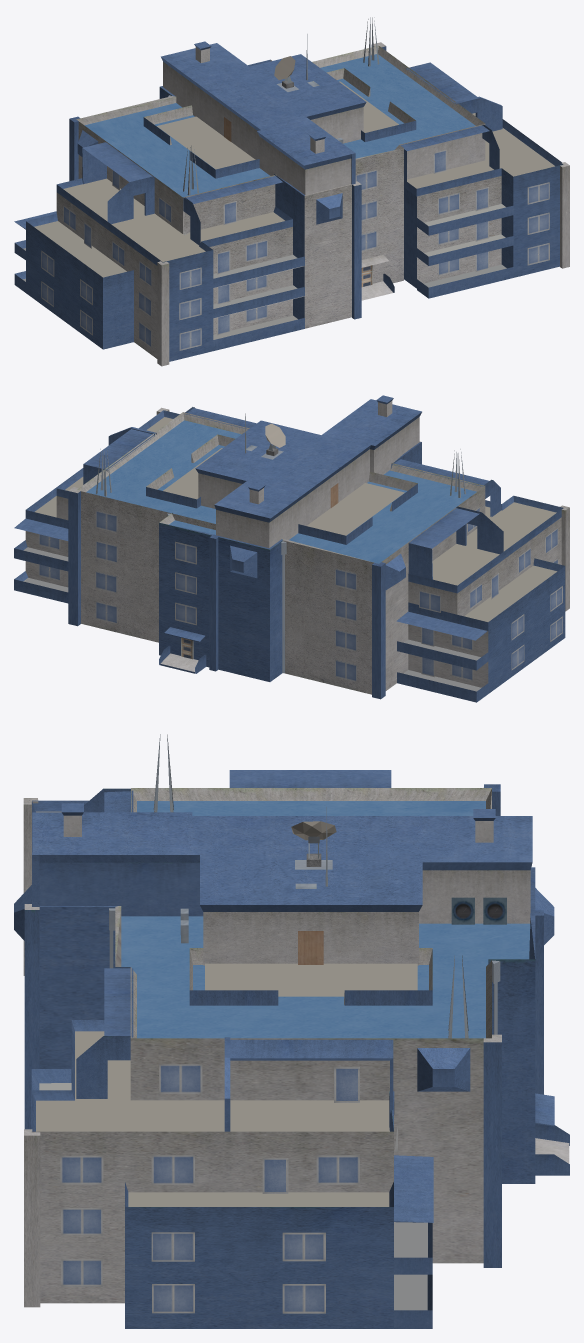
The model's file is ORB_3_S3_Detail_2.fbx.
3 views of the same model, one above another, from view 1: azimuth 30°, elevation 25°; view 2: azimuth 150°, elevation 25°; view 3: azimuth 270°, elevation 25° (orthographic). The views are drawn at different scales.
Parts seen in each view (by area): view 1: ORB_3_S3_Detail_2; view 2: ORB_3_S3_Detail_2; view 3: ORB_3_S3_Detail_2.
Part boxes in pixels (box(x1,y1,x2,y2)): ORB_3_S3_Detail_2: box(14, 17, 569, 366); ORB_3_S3_Detail_2: box(14, 395, 569, 702); ORB_3_S3_Detail_2: box(14, 734, 569, 1328).
Bounding box in the file's own units: 4288 × 1858 × 2603.
